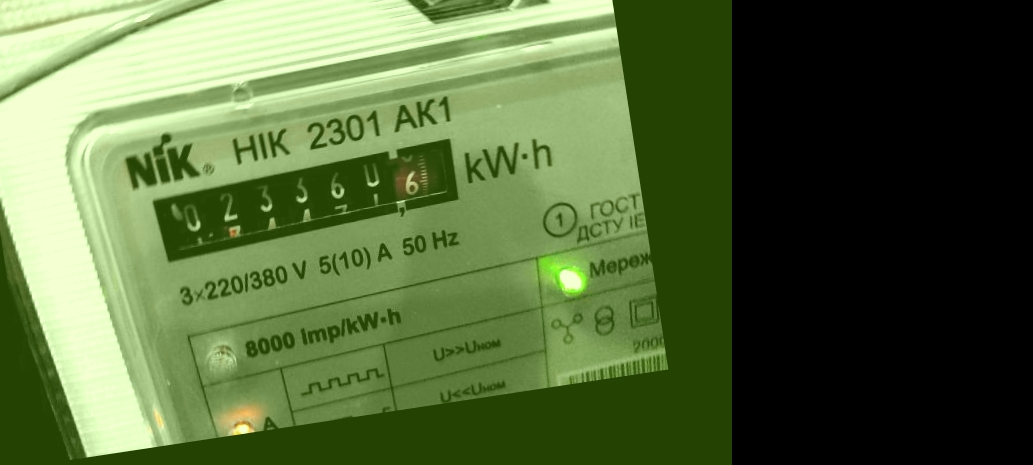0: (178, 197, 205, 234), (357, 156, 383, 190)
2: (216, 187, 240, 223)
3: (288, 169, 312, 205), (251, 181, 275, 214)
6: (398, 163, 424, 199), (323, 166, 348, 201)
screen: (132, 126, 480, 270)
